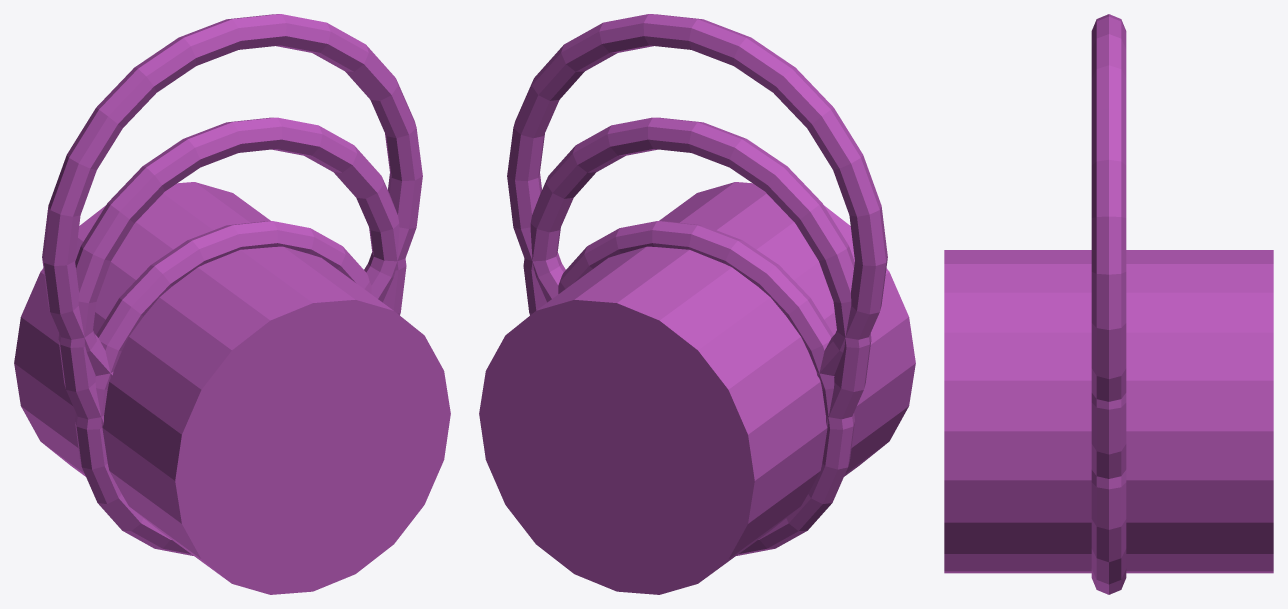
Rendered from love_022.glb.
The picture shows the model from 3 angles, left to right: view 1: azimuth 30°, elevation 25°; view 2: azimuth 150°, elevation 25°; view 3: azimuth 270°, elevation 25°; orthographic projection. The views are drawn at different scales.
Visible parts, largest first — view 1: world; view 2: world; view 3: world.
Boxes of the visible parts, x1=… form: world: x1=14, y1=14, x2=450, y2=594; world: x1=479, y1=14, x2=915, y2=594; world: x1=944, y1=14, x2=1273, y2=594.
Size of the model in its own units: 1.15 by 1.55 by 0.85.
